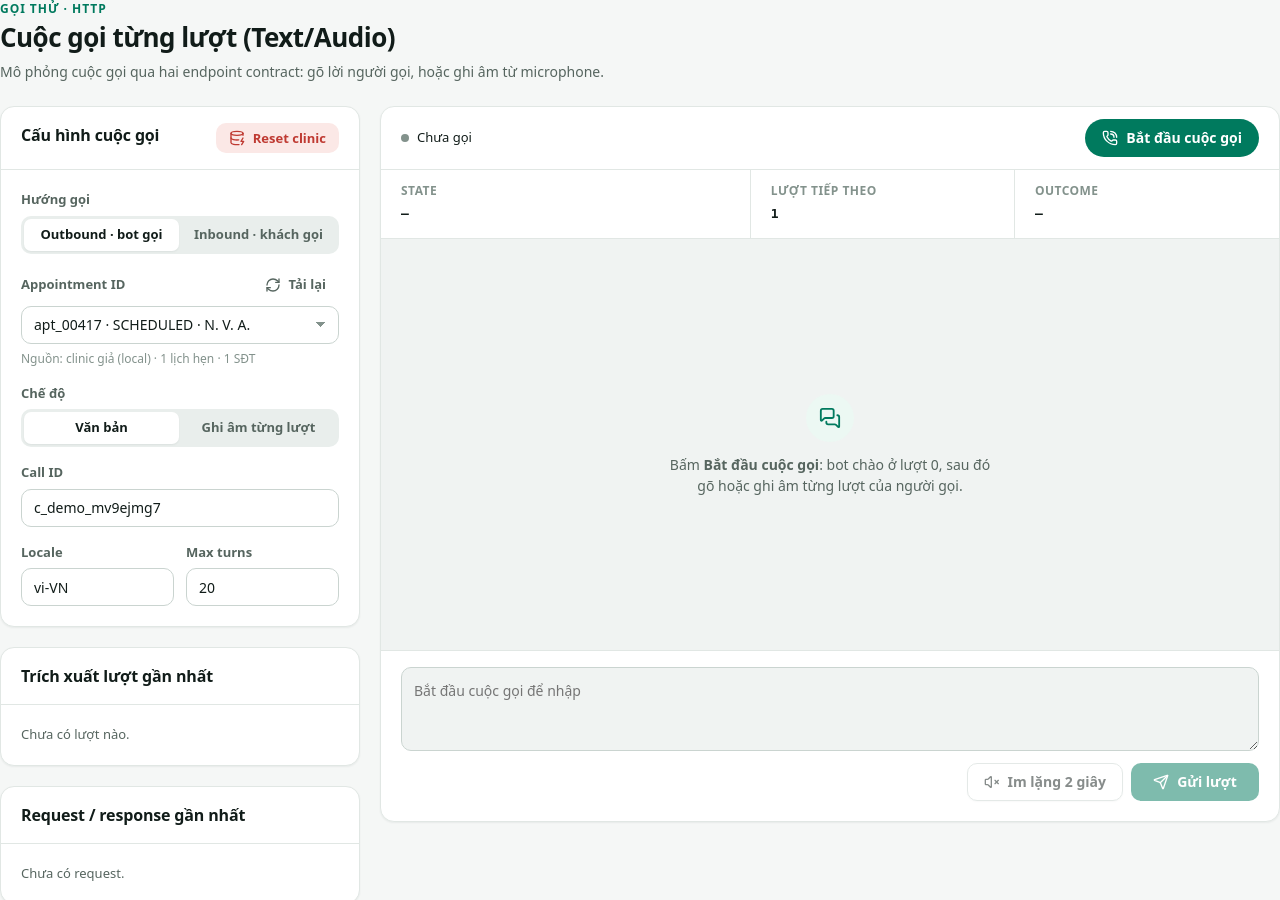
Test: CallPage › gửi lượt im lặng với silence_ms và không có text
Click the button "Bắt đầu cuộc gọi" at (1172, 138), box [1085,119,1259,157]
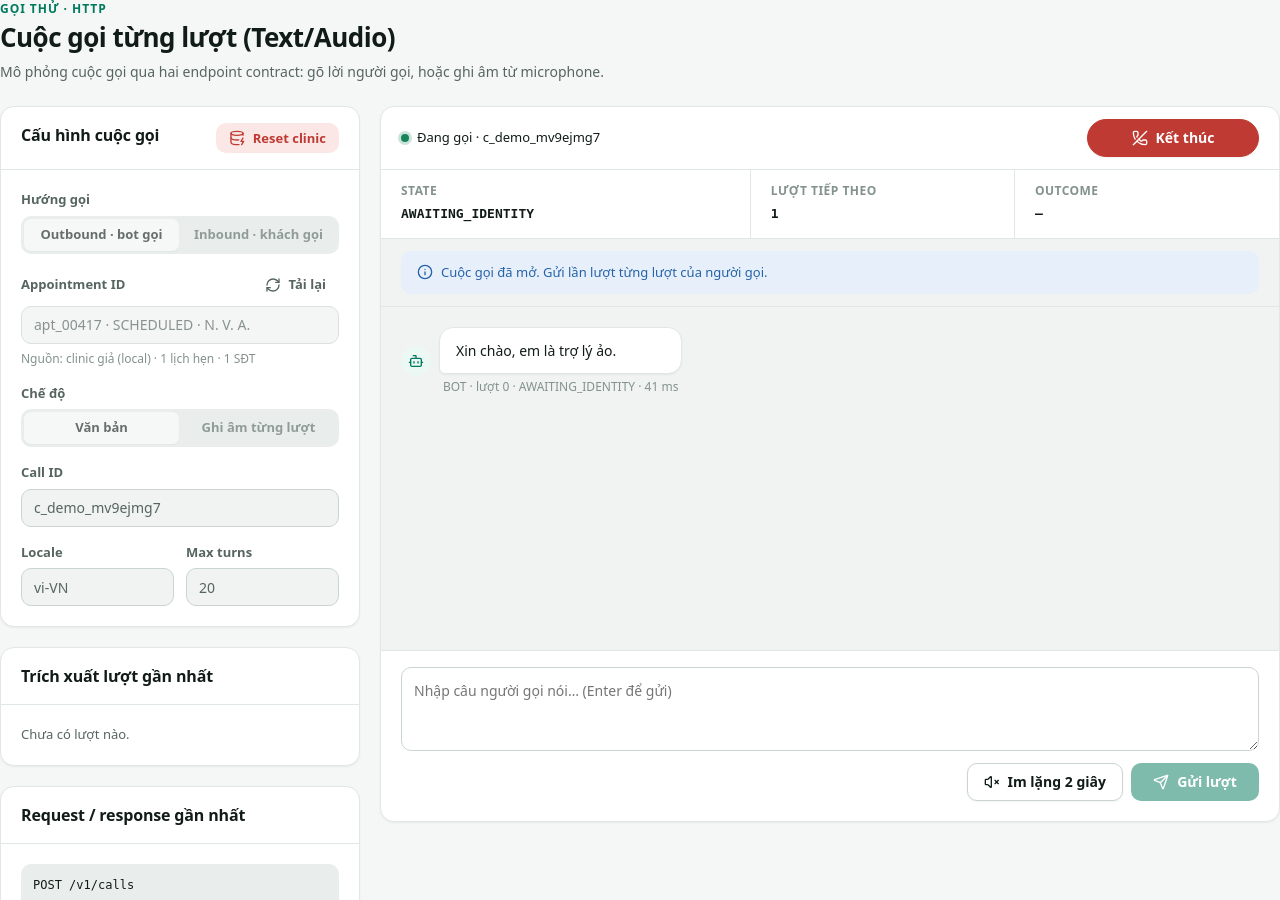
Result: the text "Xin chào, em là trợ lý ảo." is shown at [439,327,682,374]
Click the button "Im lặng 2 giây" at (1045, 782), box [966,763,1123,801]
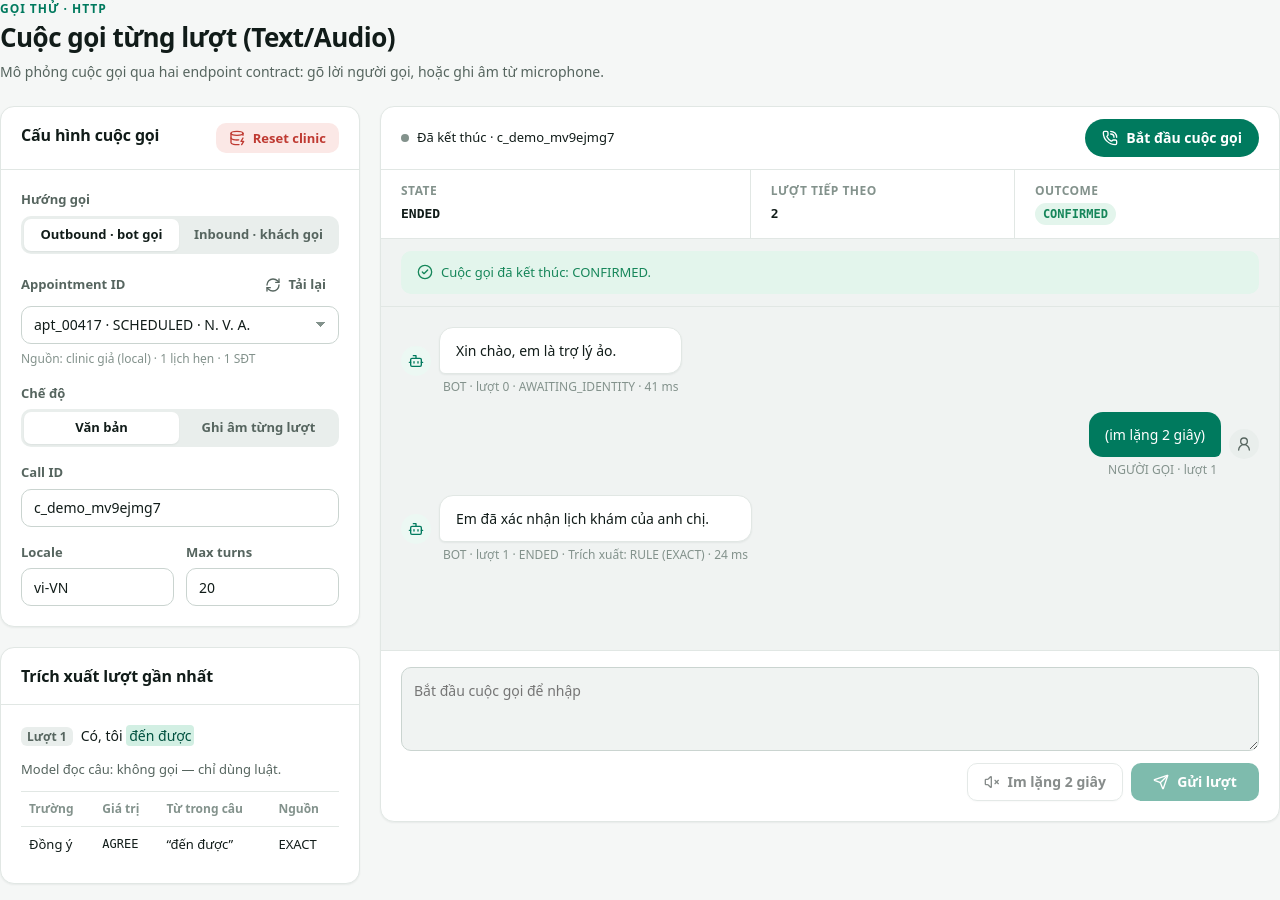
Result: the text "(im lặng 2 giây)" is shown at [1089,412,1221,457]
